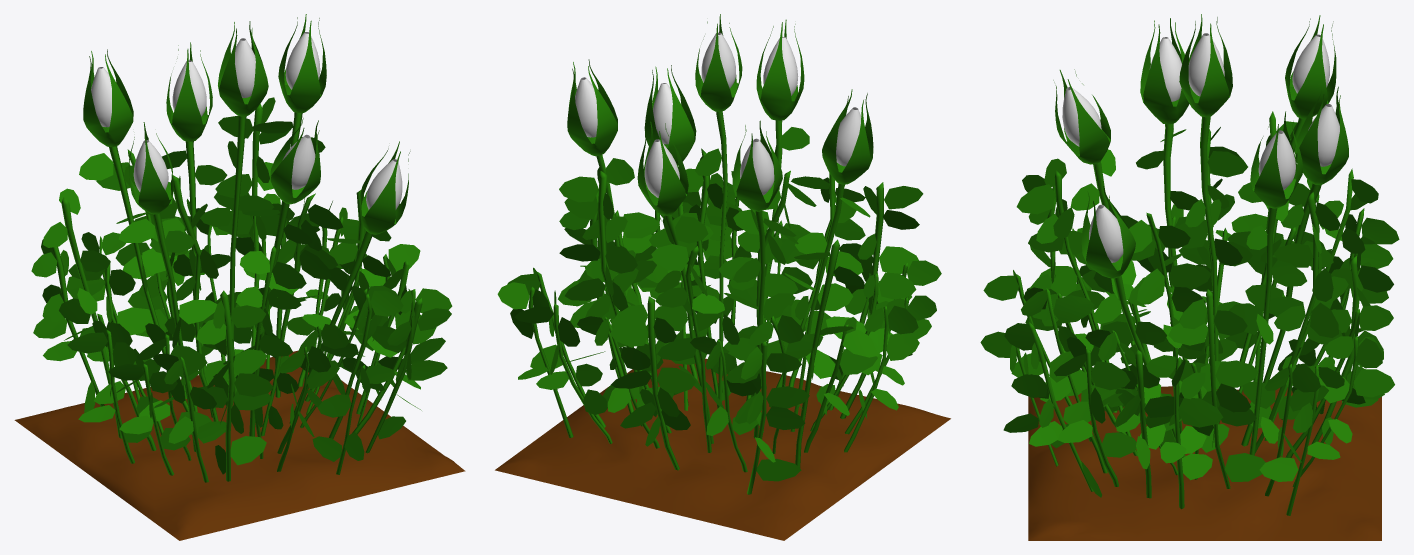
The model's file is white-rose-p4-leaf.glb.
3 renders of one model, left to right at view 1: azimuth 30°, elevation 25°; view 2: azimuth 150°, elevation 25°; view 3: azimuth 270°, elevation 25°, orthographic. The views are drawn at different scales.
Visible parts, largest first — view 1: 4_nft_out_of_bloom; view 2: 4_nft_out_of_bloom; view 3: 4_nft_out_of_bloom.
Boxes of the visible parts, left/top/right/bottom form: 4_nft_out_of_bloom: left=14, top=14, right=465, bottom=540; 4_nft_out_of_bloom: left=495, top=14, right=950, bottom=540; 4_nft_out_of_bloom: left=980, top=14, right=1399, bottom=540.
Size of the model in its own units: 0.862 by 0.9812 by 0.8292.
